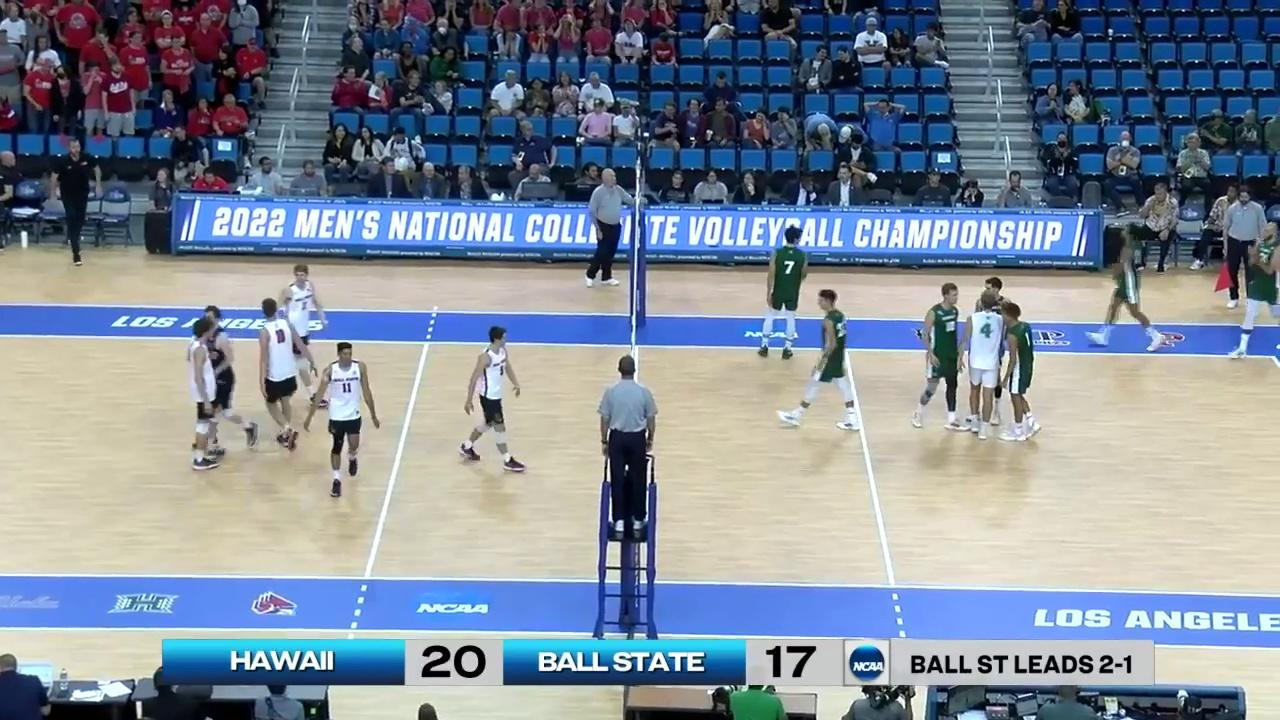player: (786, 288, 859, 430), (1089, 223, 1169, 349), (457, 327, 525, 471), (195, 306, 256, 453), (259, 299, 312, 453), (912, 284, 967, 427), (319, 342, 369, 498), (1226, 223, 1280, 361), (276, 263, 325, 408), (183, 316, 229, 468), (759, 229, 807, 357), (965, 294, 1004, 439), (1004, 298, 1041, 441), (976, 279, 1012, 422)
refree: (594, 356, 655, 526), (1222, 187, 1273, 309), (584, 168, 625, 288)
